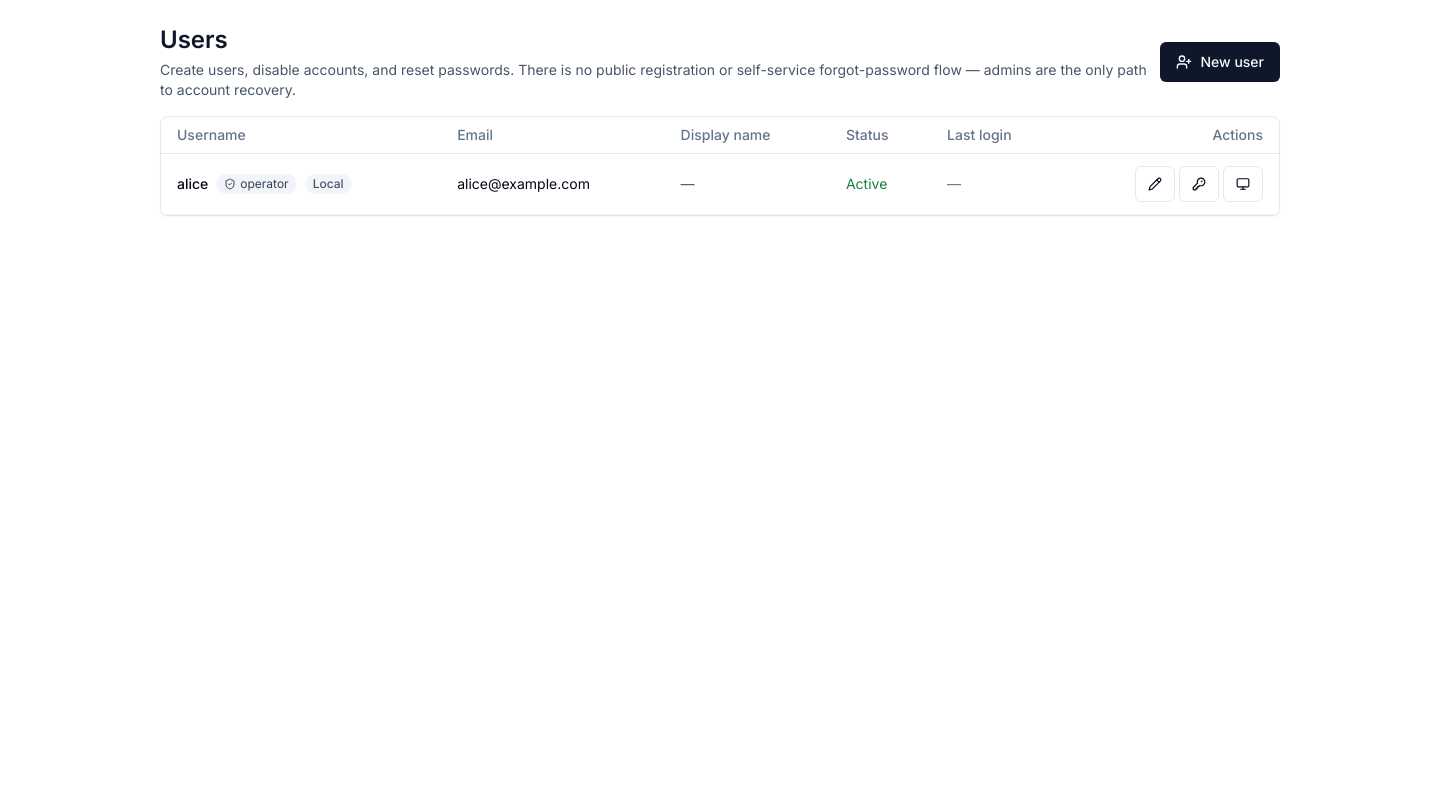
AdminUsersPage role management › removes a revoked session from the list without a manual refresh
Expected: the text "alice" is shown, [177,174,208,194]
Click the button with test id "admin-sessions-alice" at (1243, 184), box [1223,166,1263,202]
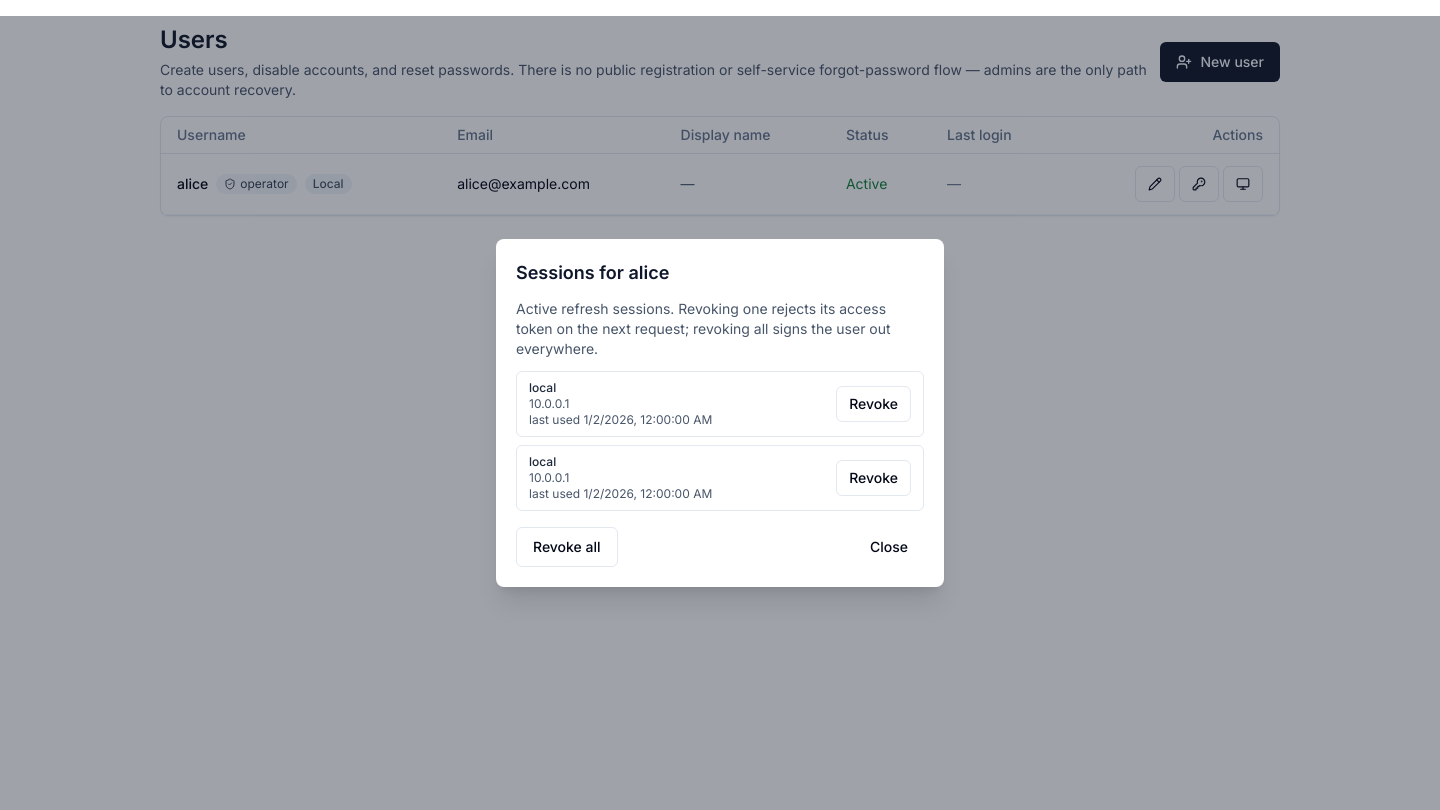
Expected: the element with test id "session-sess-1" is shown, [516,371,924,437]
Click the button with test id "revoke-sess-1" at (874, 404), box [836,386,911,422]
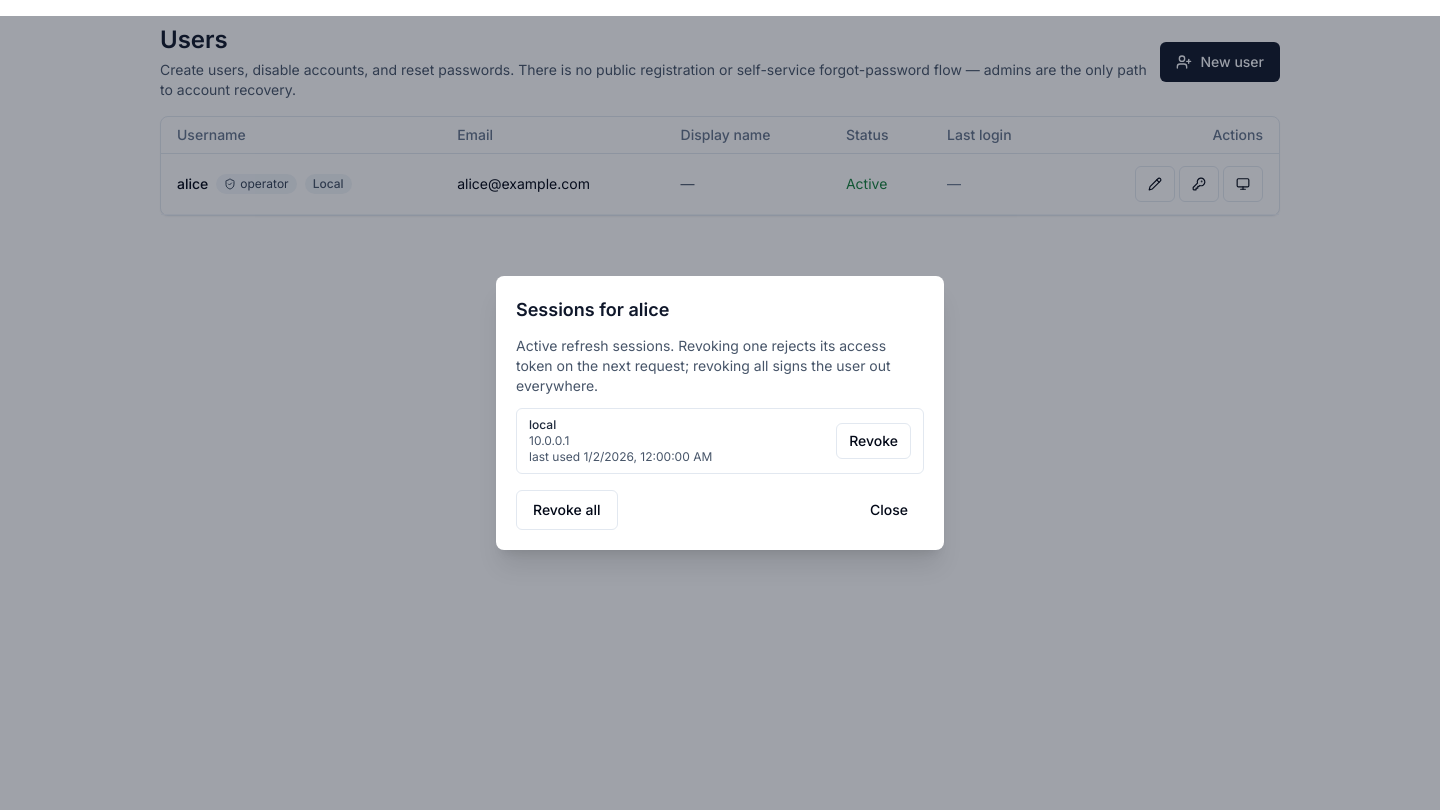
Expected: the element with test id "session-sess-2" is shown, [516,408,924,474]
Expected: the element with test id "session-sess-1" is gone
